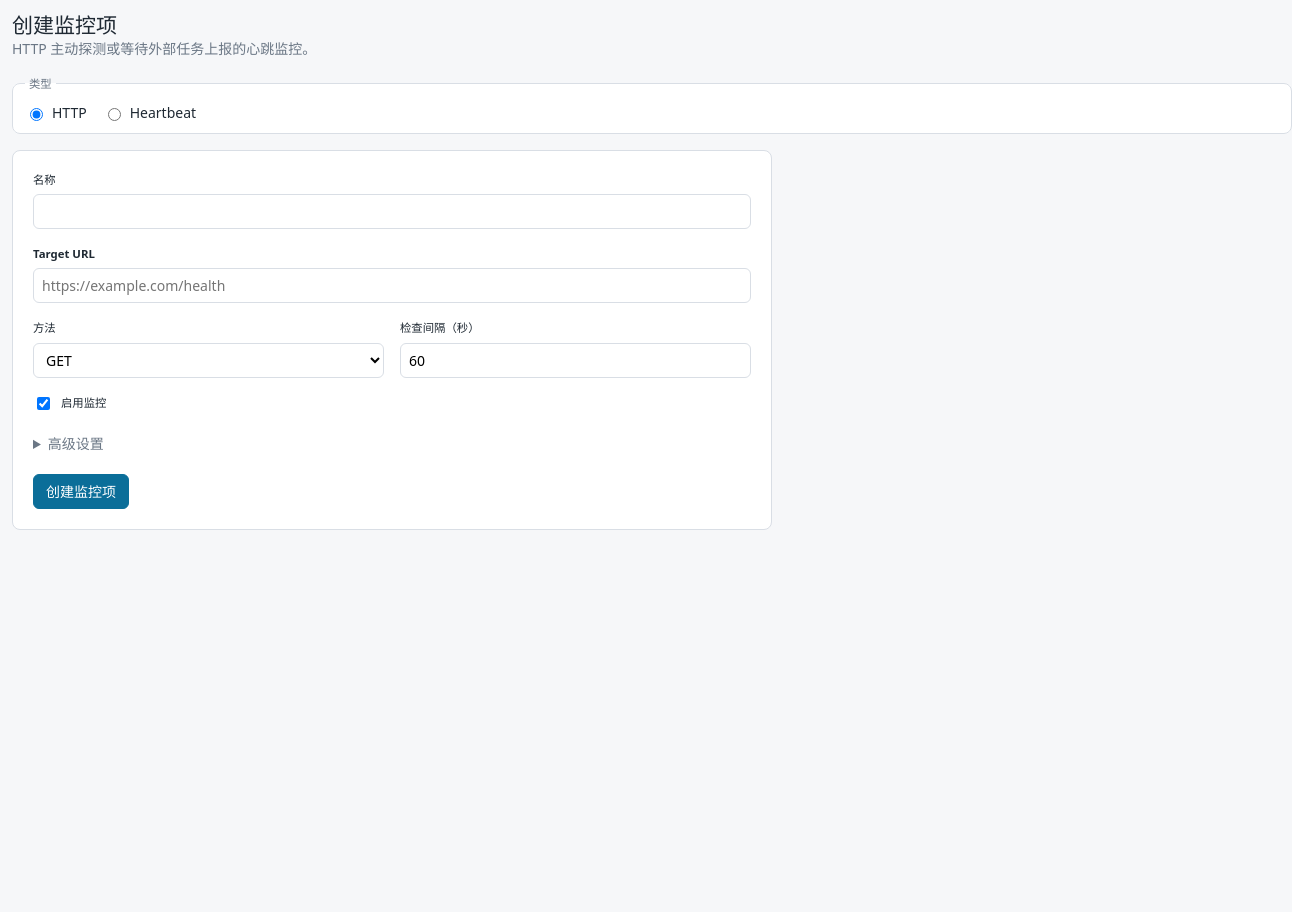
Test: MonitorCreateView › shows the server error code, message and trace id
Type "New API" into the field with id "monitor-name".
click(392, 212); type("New API")  # box [33,194,751,229]
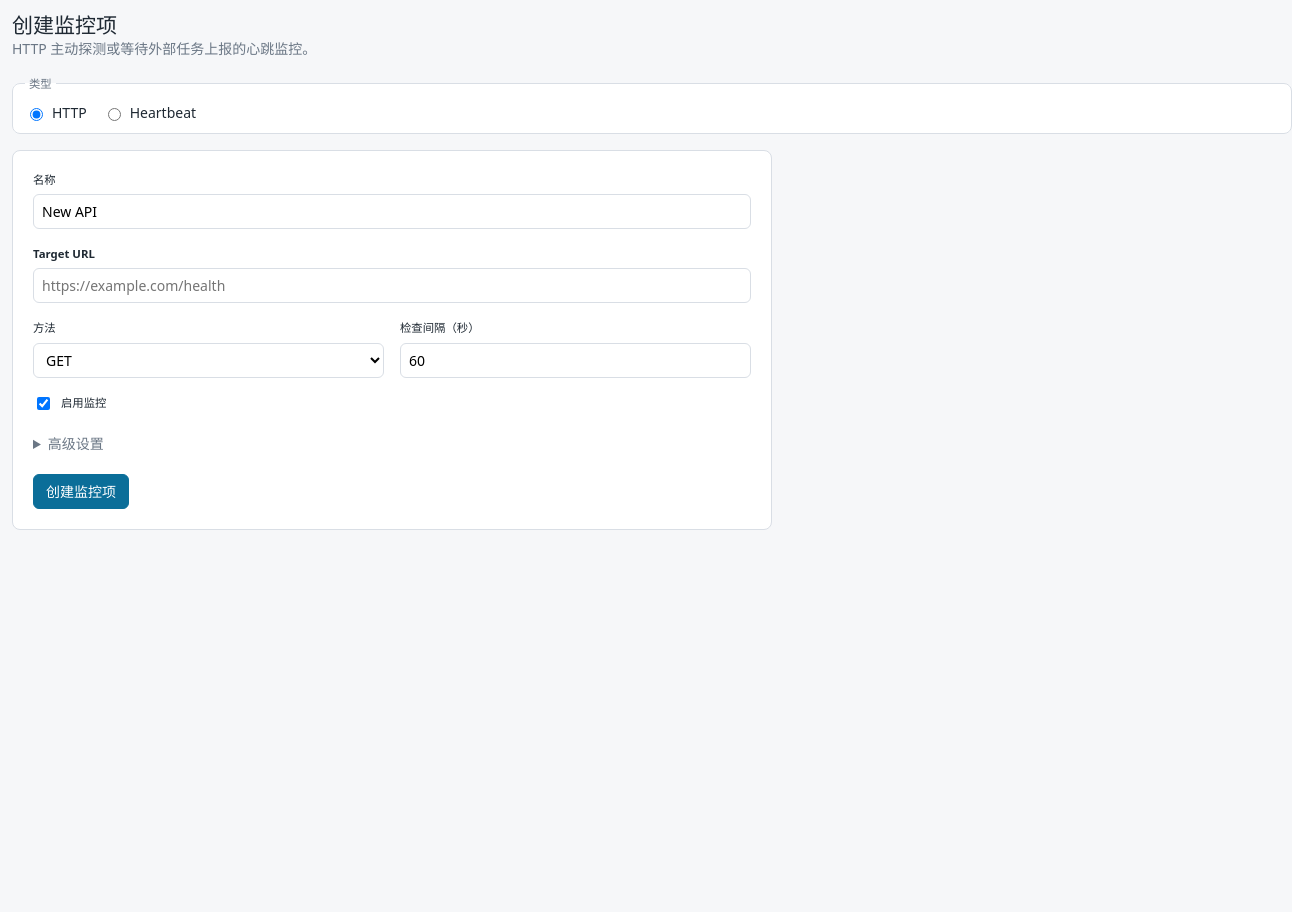
Type "https://1.1.1.1/health" into the field with id "monitor-url".
click(392, 286); type("https://1.1.1.1/health")  # box [33,268,751,303]
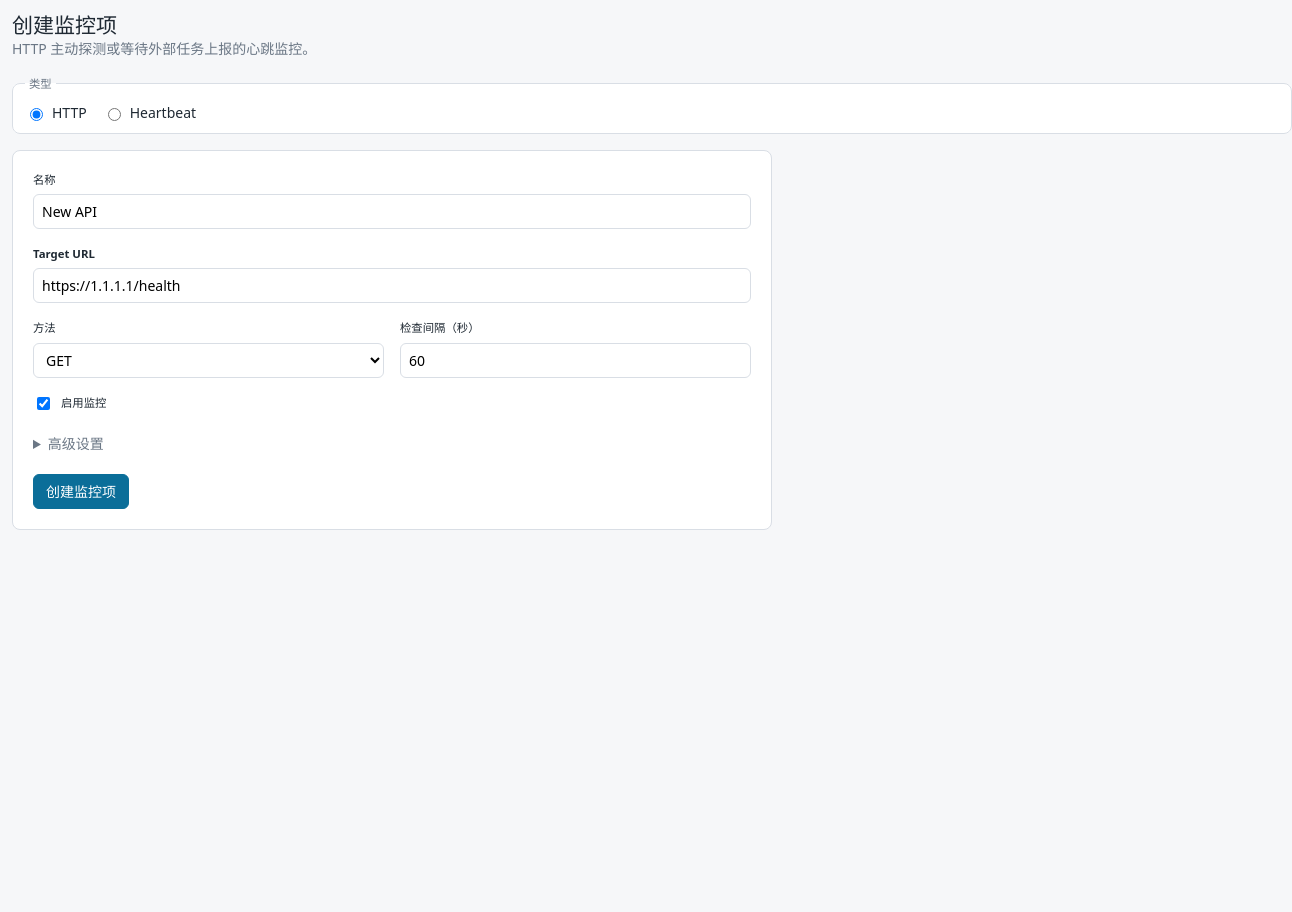
Submit the form, box [12,150,772,530]
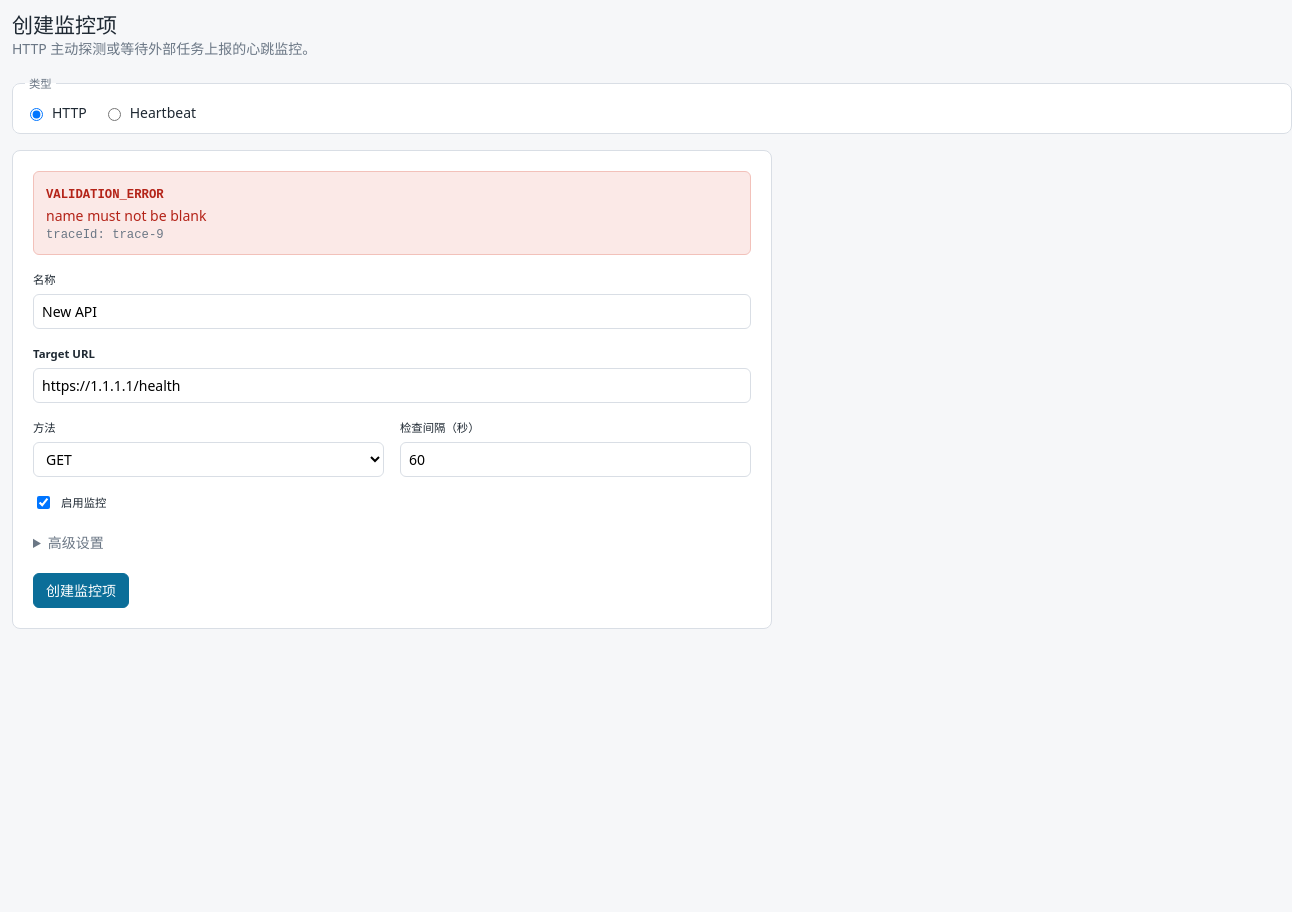
Expected: the text "VALIDATION_ERROR" is shown, [46,188,164,202]
Expected: the text "name must not be blank" is shown, [46,205,206,226]
Expected: the text "trace-9" is shown, [46,228,164,242]
